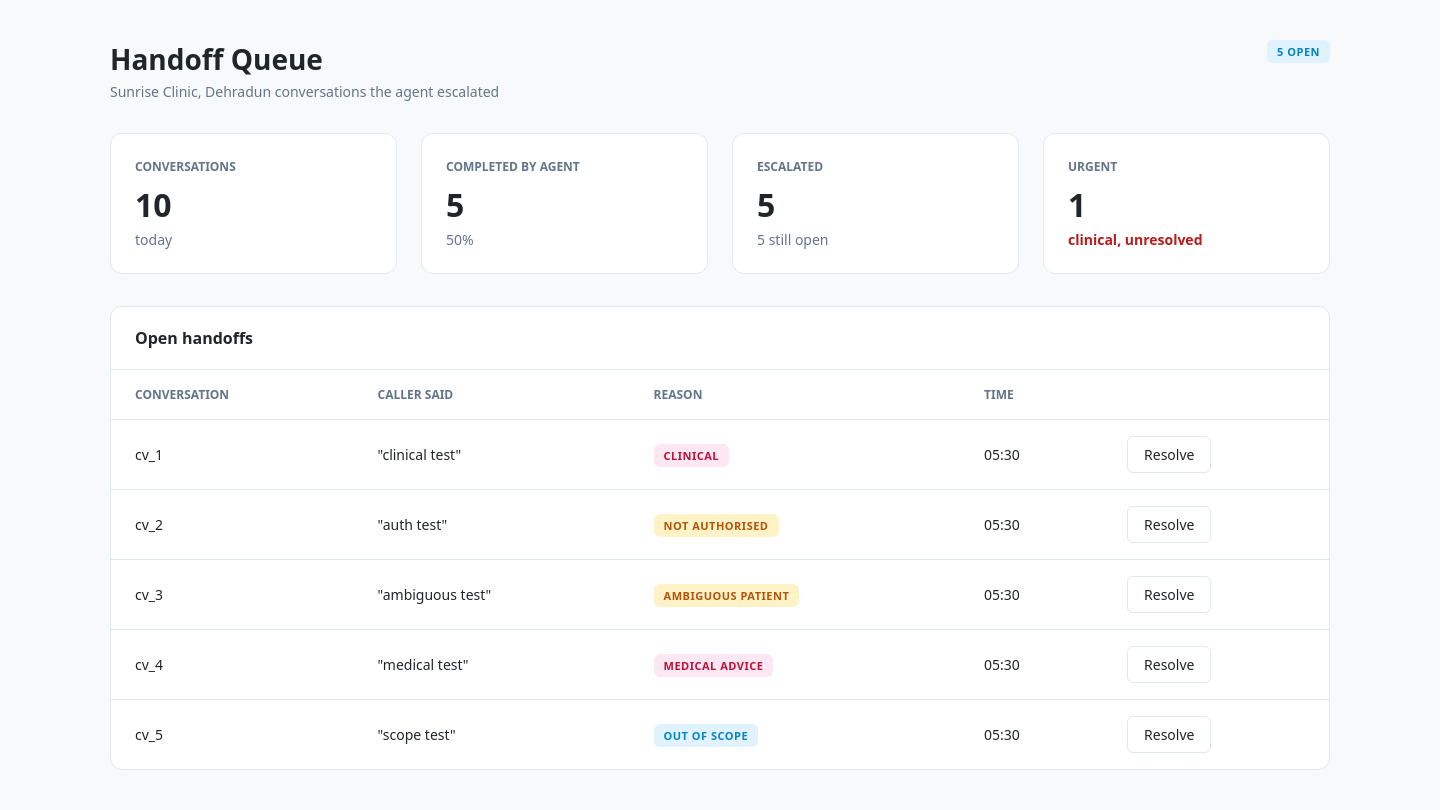
Test: Frontend Tests › shows already resolved on 409
Expected: the text "cv_1" is shown, [111,420,354,490]
Note: Click resolve for cv_1
Step 1. Click the button "Resolve" in the row of "cv_1" → (1169, 454), box [1127,436,1211,473]
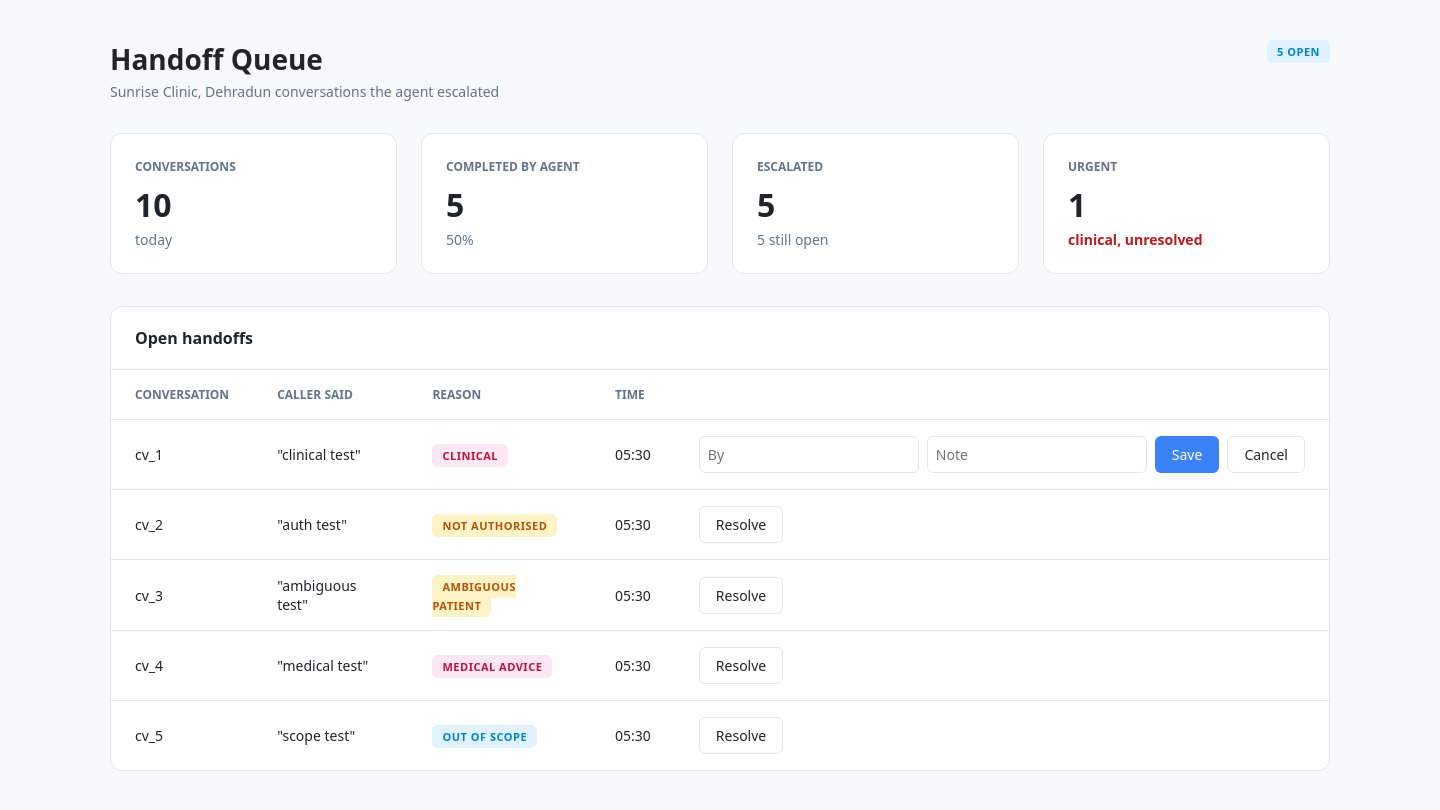
Note: Fill form
Step 2. Type "User" into the field with placeholder "By" → (809, 454), box [699,436,919,473]
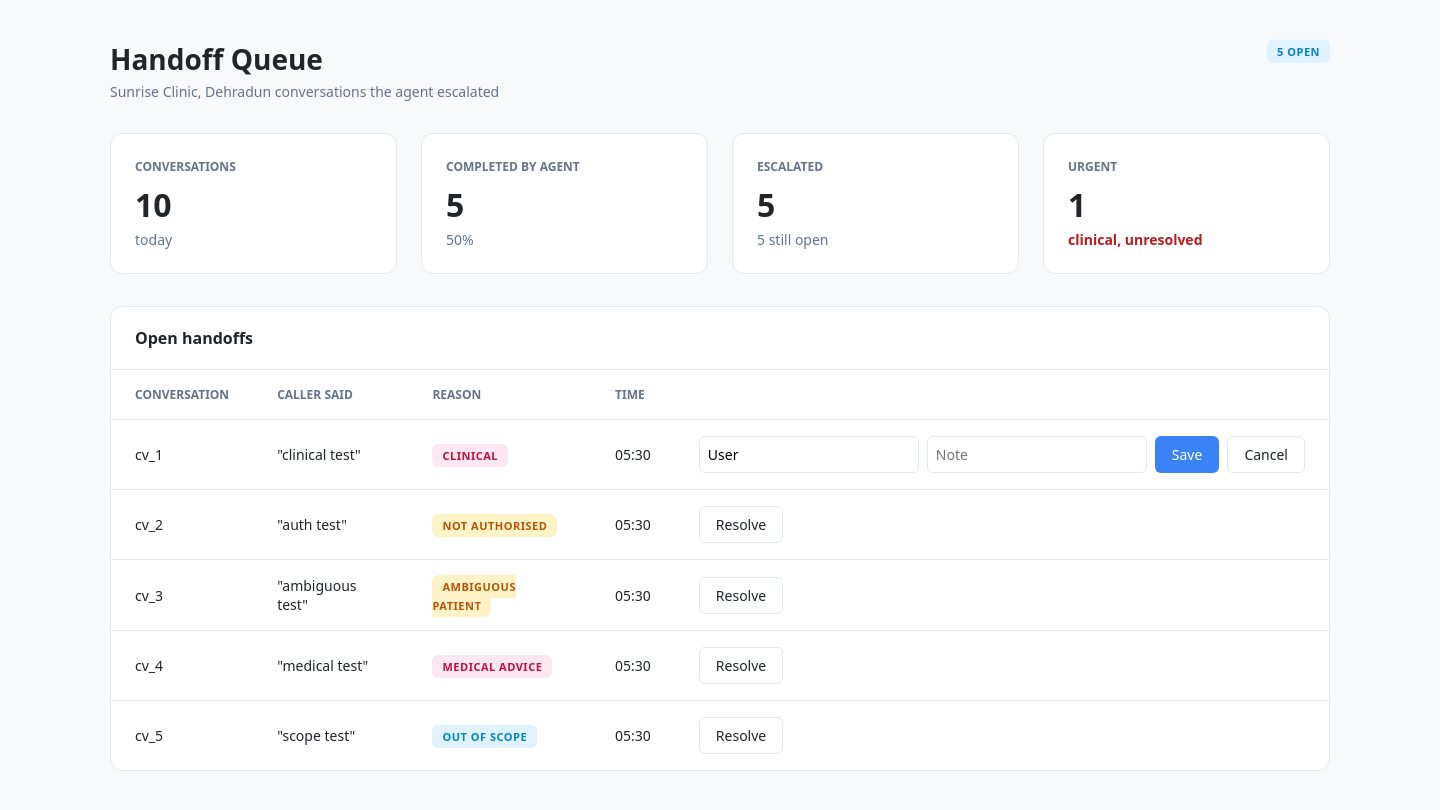
Step 3. Click the button "Save" → (1187, 454), box [1155,436,1219,473]
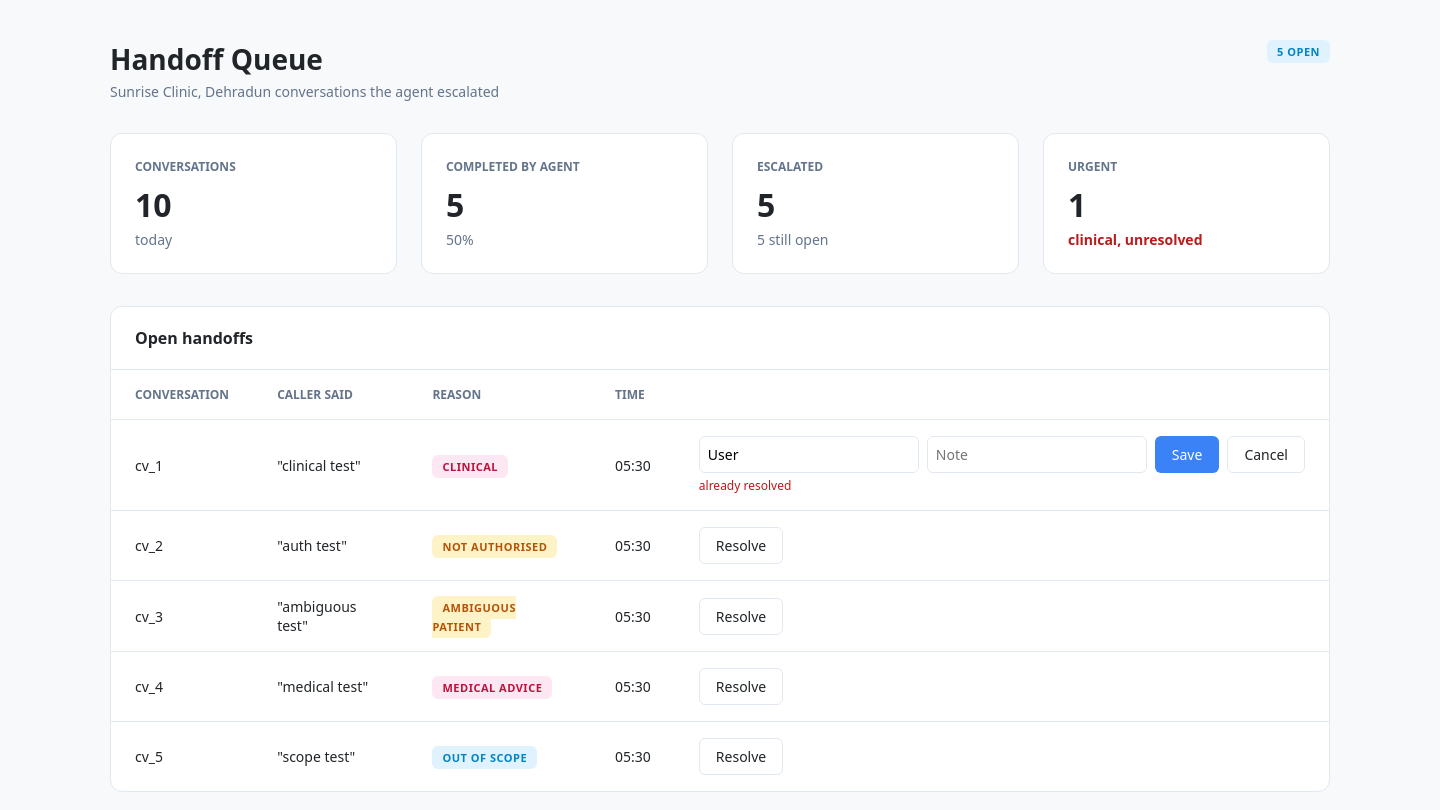
Expected: the text "already resolved" is shown, [699,477,791,494]
